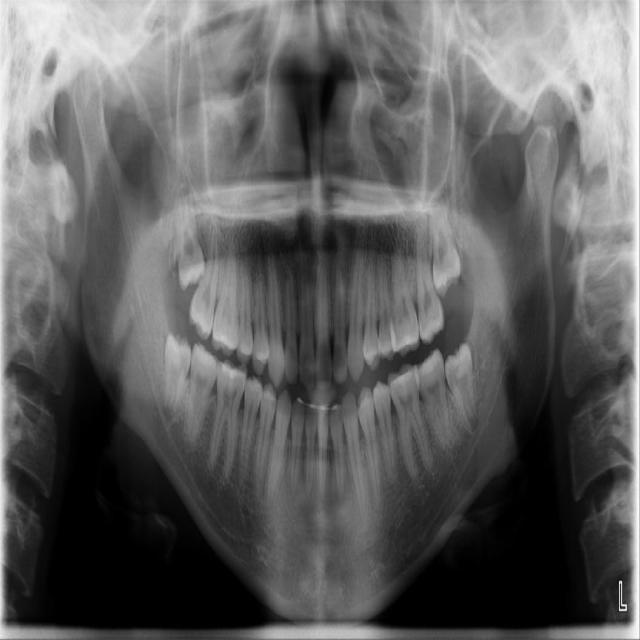3M ESPE Implant: (167, 185, 208, 290)
73: (602, 585, 616, 605)
BioHorizons Implant: (415, 233, 445, 345)
BioLife Implant: (429, 196, 462, 297)
Biomet 3i Implant: (442, 341, 480, 433)
Blue Sky Bio Implant: (411, 348, 454, 455)
Caries: (185, 225, 226, 341)
Implant: (185, 341, 221, 447)
Keystone Dental Implant: (164, 332, 192, 413)
